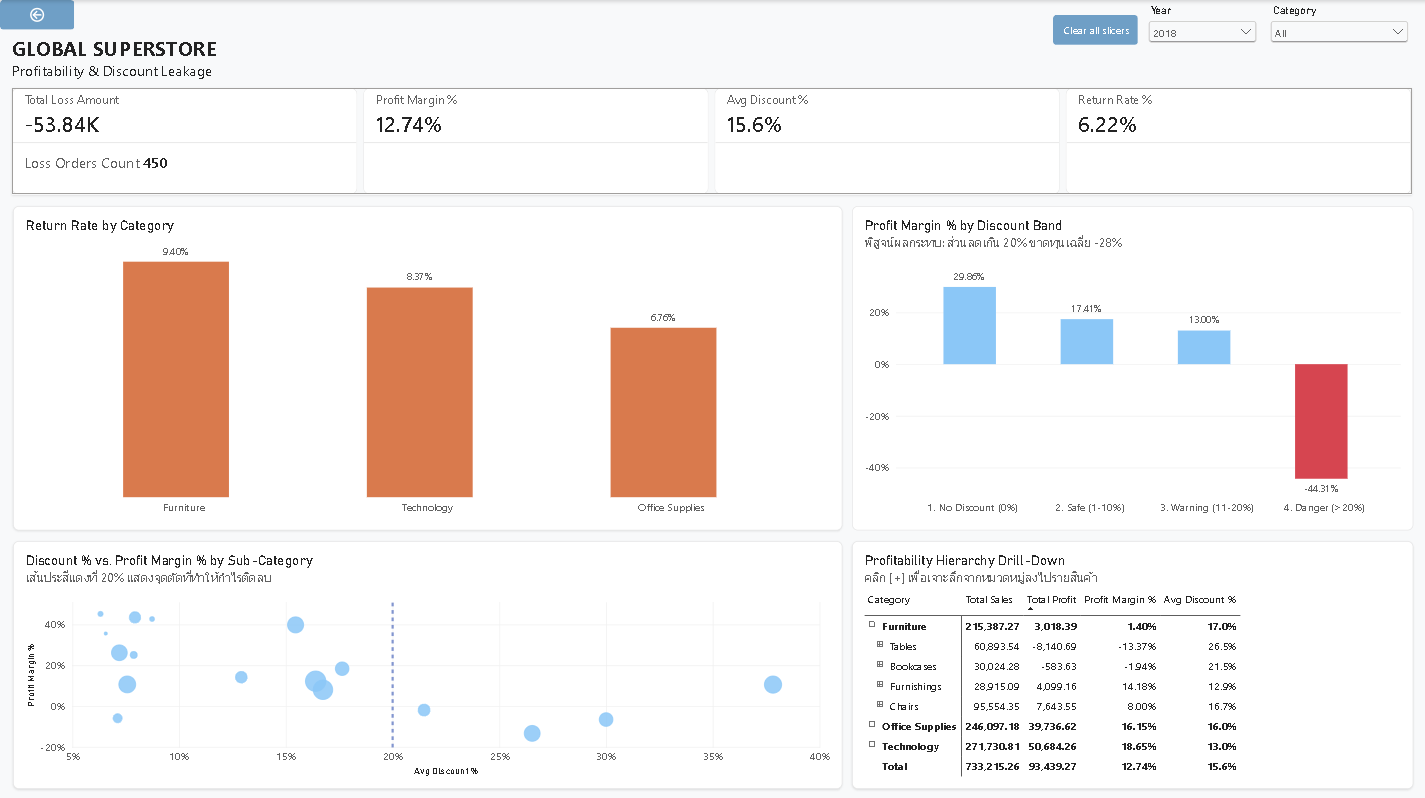

The dashboard page shown, as its layout file describes it:
{"tool":"powerbi","page":{"name":"Profitability Deep-Dive","canvas":[1920,1080],"ordinal":1},"visuals":[{"type":"cardVisual","fields":{"Data":["_Measures.Total Loss Amount","_Measures.Profit Margin %","_Measures.Avg Discount %","_Measures.Return Rate %"]},"box":[16.6,117.9,1885.2,143.6],"z":0},{"type":"slicer","fields":{"Values":["Dim_Date.Year"]},"box":[1541.9,5.4,154.9,76.8],"z":1000},{"type":"scatterChart","title":"Discount % vs. Profit Margin % by Sub-Category","fields":{"Category":["Fact_Orders.Sub-Category"],"Size":["_Measures.Total Sales"],"X":["_Measures.Avg Discount %"],"Y":["_Measures.Profit Margin %"]},"box":[17.1,728.6,1117.1,334.3],"z":2000},{"type":"pivotTable","title":"Profitability Hierarchy Drill-Down","fields":{"Rows":["Fact_Orders.Category","Fact_Orders.Sub-Category","Fact_Orders.Product Name"],"Values":["_Measures.Total Sales","_Measures.Total Profit","_Measures.Profit Margin %","_Measures.Avg Discount %"]},"box":[1147.1,728.6,755.7,334.3],"z":3000},{"type":"textbox","box":[16.2,45.8,1131.2,72.7],"z":4000},{"type":"slicer","fields":{"Values":["Fact_Orders.Category"]},"box":[1706.8,6,195,80.1],"z":5000},{"type":"actionButton","box":[0,0,100,40],"z":6000},{"type":"clusteredColumnChart","title":"Profit Margin % by Discount Band","fields":{"Category":["Fact_Orders.Discount Band"],"Y":["_Measures.Profit Margin %"]},"box":[1147.1,277.1,755.7,437.1],"z":7000},{"type":"actionButton","box":[1418,20.2,114.5,40.4],"z":8000},{"type":"columnChart","title":"Return Rate by Category","fields":{"Category":["Fact_Orders.Category","Fact_Orders.Sub-Category"],"Y":["_Measures.Return Rate %"]},"box":[17.1,277.1,1117.1,437.1],"z":8001}]}

Visuals, with their boxes in screenshot pixels (x1, y1, x2, y2), scaled from the page's 1920x1080 canvas onto the 1425x798 screenshot:
cardVisual - _Measures.Total Loss Amount x _Measures.Profit Margin %: [left=12, top=87, right=1411, bottom=193]
slicer - Dim_Date.Year: [left=1144, top=4, right=1259, bottom=61]
"Discount % vs. Profit Margin % by Sub-Category" scatterChart: [left=13, top=538, right=842, bottom=785]
"Profitability Hierarchy Drill-Down" pivotTable: [left=851, top=538, right=1412, bottom=785]
textbox: [left=12, top=34, right=852, bottom=88]
slicer - Fact_Orders.Category: [left=1267, top=4, right=1411, bottom=64]
actionButton: [left=0, top=0, right=74, bottom=30]
"Profit Margin % by Discount Band" clusteredColumnChart: [left=851, top=205, right=1412, bottom=528]
actionButton: [left=1052, top=15, right=1137, bottom=45]
"Return Rate by Category" columnChart: [left=13, top=205, right=842, bottom=528]
